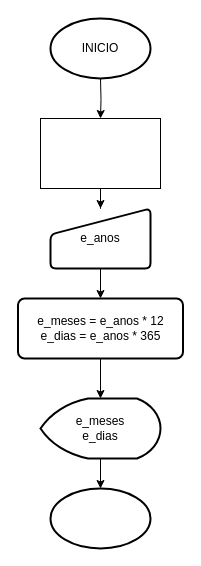
Some shapes in this 201 by 566 pixel diagram are drawn without their labels. Here are the shapes that lost their labels. From the top down, the centre of each, then its label:
the point at 100,153: e_anos = 0 e_meses = 0 e_dias = 0
the point at 100,518: FIN
